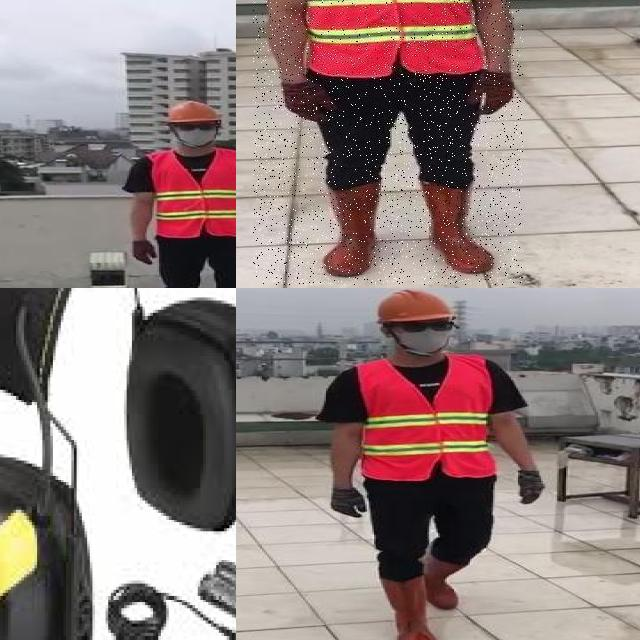Ear-protection: (121, 292, 236, 530), (0, 445, 92, 640)
boots: (424, 181, 492, 275), (321, 183, 382, 276), (376, 576, 440, 640), (420, 553, 474, 613)
face_mask: (391, 316, 455, 355), (175, 121, 220, 148)
glasses: (393, 317, 458, 335), (172, 122, 222, 134)
hand_glove: (329, 487, 367, 516), (520, 468, 546, 505), (131, 236, 157, 266)
head_helmet: (377, 288, 455, 323), (164, 100, 222, 124)
person: (313, 288, 550, 640), (253, 0, 523, 285), (120, 96, 236, 288)
vest: (352, 359, 497, 482), (292, 0, 484, 77), (143, 149, 236, 239)
